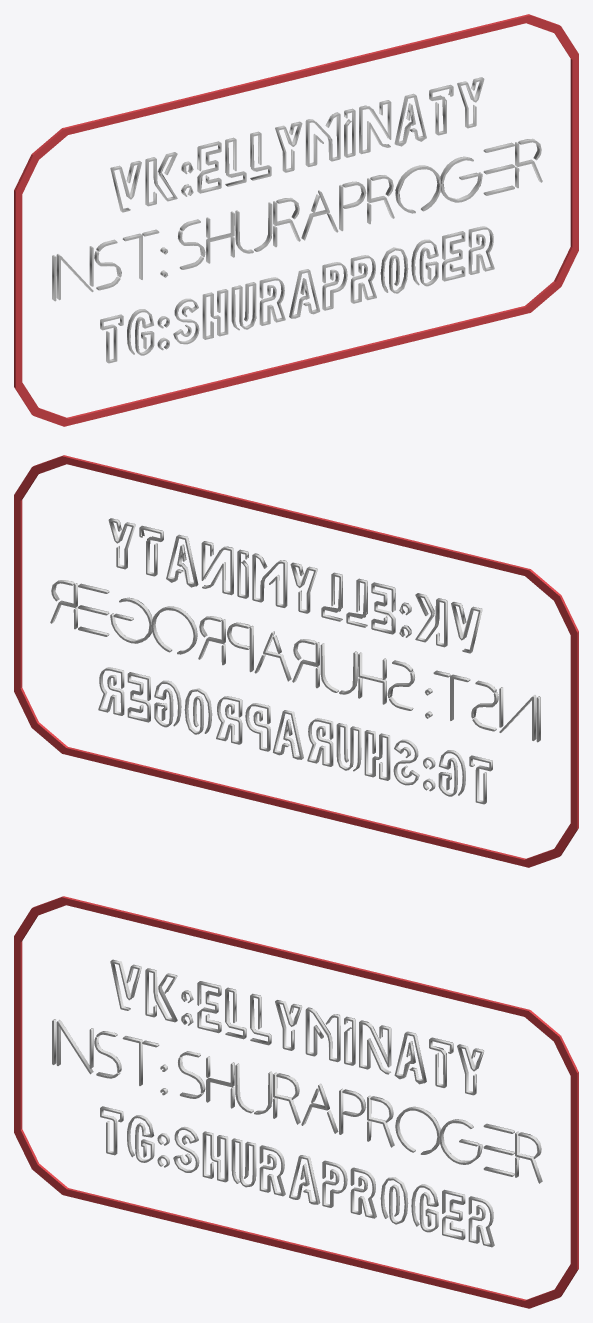
File: SocialBilboard.fbx
3 renders of one model, top to bottom at view 1: azimuth 30°, elevation 25°; view 2: azimuth 150°, elevation 25°; view 3: azimuth 330°, elevation 25°, orthographic.
Visible parts, largest first — view 1: Circle.002, Text.019, Text.018, Text.017; view 2: Circle.002, Text.019, Text.018, Text.017; view 3: Circle.002, Text.019, Text.018, Text.017.
Part boxes in pixels (x1=…): Circle.002: x1=14, y1=14, x2=578, y2=426; Text.019: x1=100, y1=226, x2=494, y2=363; Text.018: x1=110, y1=77, x2=484, y2=212; Text.017: x1=52, y1=138, x2=542, y2=301; Circle.002: x1=14, y1=455, x2=578, y2=867; Text.019: x1=98, y1=667, x2=492, y2=804; Text.018: x1=108, y1=518, x2=482, y2=653; Text.017: x1=50, y1=580, x2=540, y2=742; Circle.002: x1=14, y1=896, x2=578, y2=1308; Text.019: x1=100, y1=1106, x2=494, y2=1247; Text.018: x1=110, y1=959, x2=484, y2=1095; Text.017: x1=52, y1=1019, x2=542, y2=1183.
Size of the model in its own units: 19.88 by 10.04 by 0.1422.
